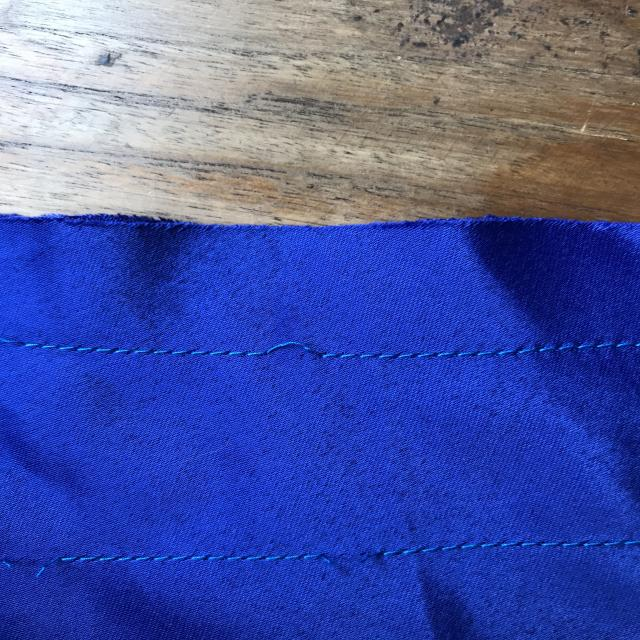broken: (294, 524, 401, 590)
good: (418, 336, 570, 375)
skip: (238, 311, 340, 389)
